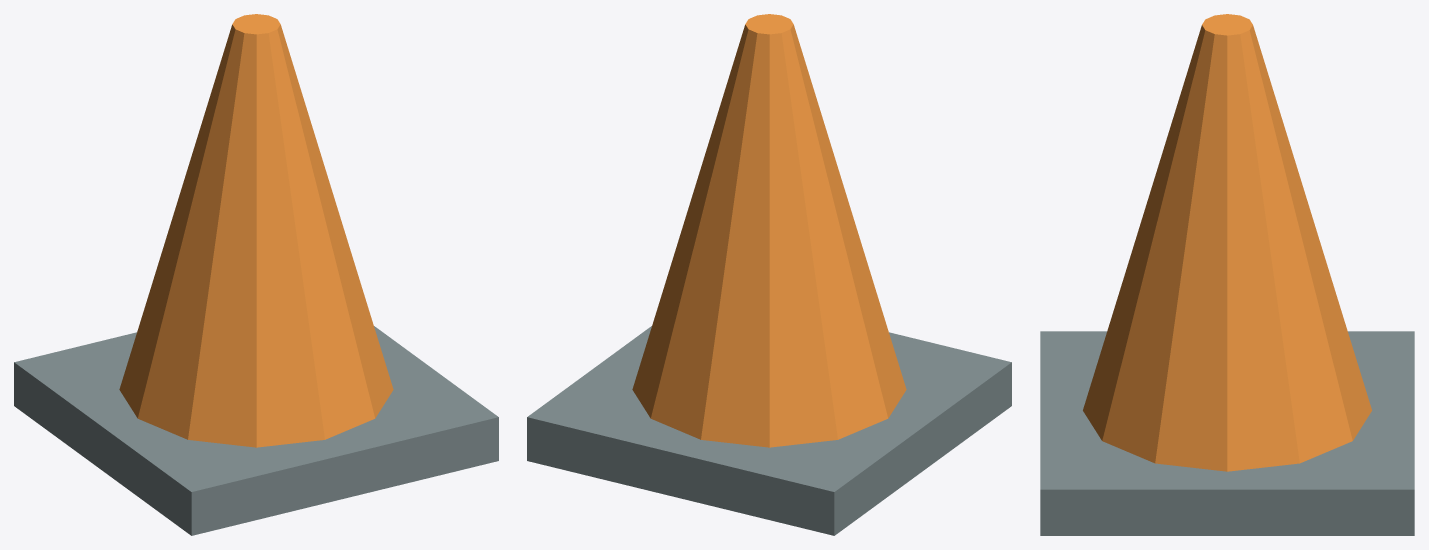
3 renders of one model, left to right at view 1: azimuth 30°, elevation 25°; view 2: azimuth 150°, elevation 25°; view 3: azimuth 270°, elevation 25°, orthographic. The views are drawn at different scales.
Size of the model in its own units: 0.44 by 0.56 by 0.44.
